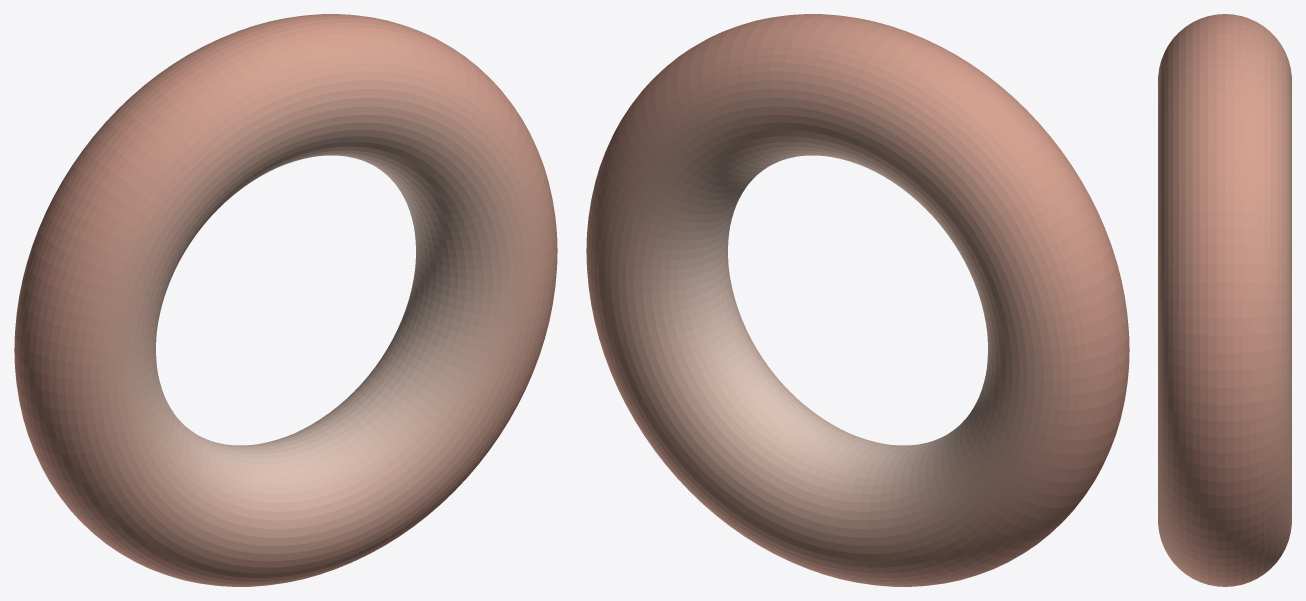
3 views of the same model, side by side, from view 1: azimuth 30°, elevation 25°; view 2: azimuth 150°, elevation 25°; view 3: azimuth 270°, elevation 25° (orthographic). The views are drawn at different scales.
Visible parts, largest first — view 1: world; view 2: world; view 3: world.
Part boxes in pixels (box(x1,y1,x2,y2)): world: box(14, 14, 557, 586); world: box(586, 14, 1129, 586); world: box(1158, 14, 1291, 586).
Bounding box in the file's own units: 16.53 × 16.53 × 3.86.
